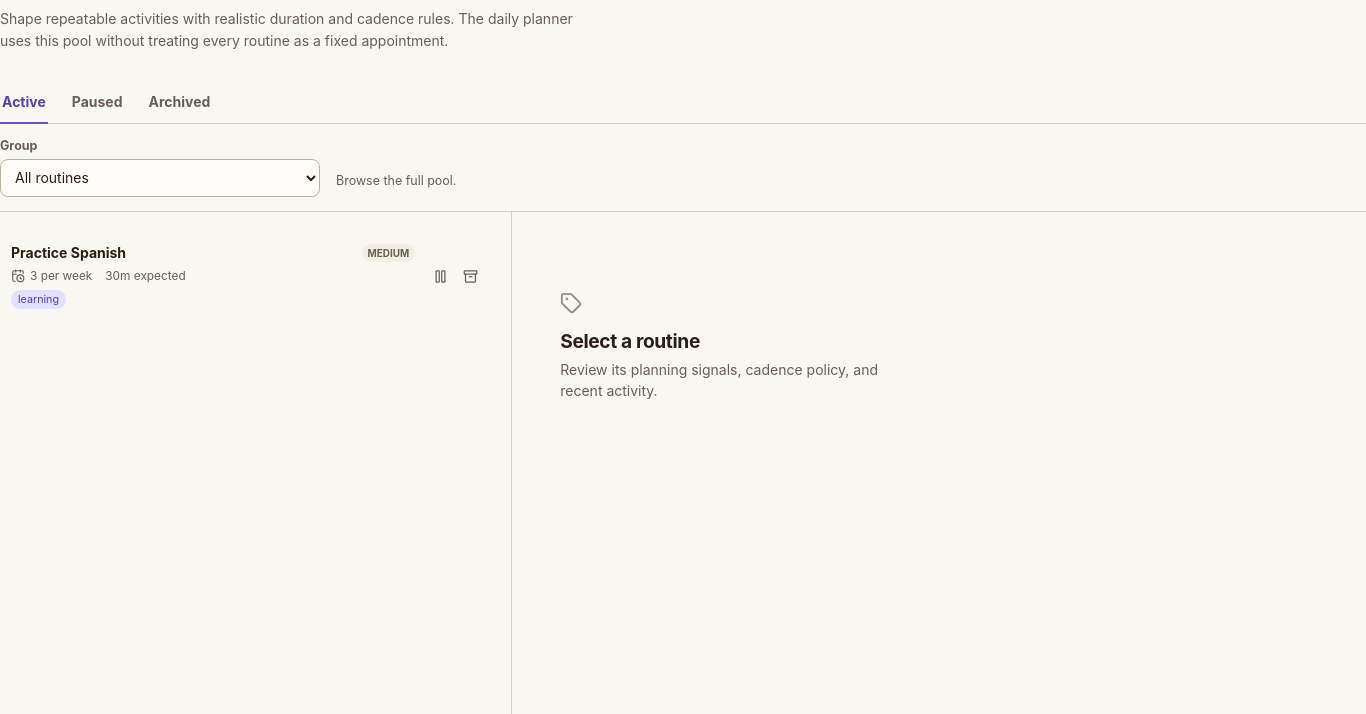
Test: routine pool › reloads authoritative values instead of advancing a stale full draft
Click the button "Practice Spanish": (69, 253) top-left (1, 231), bottom-right (425, 322)
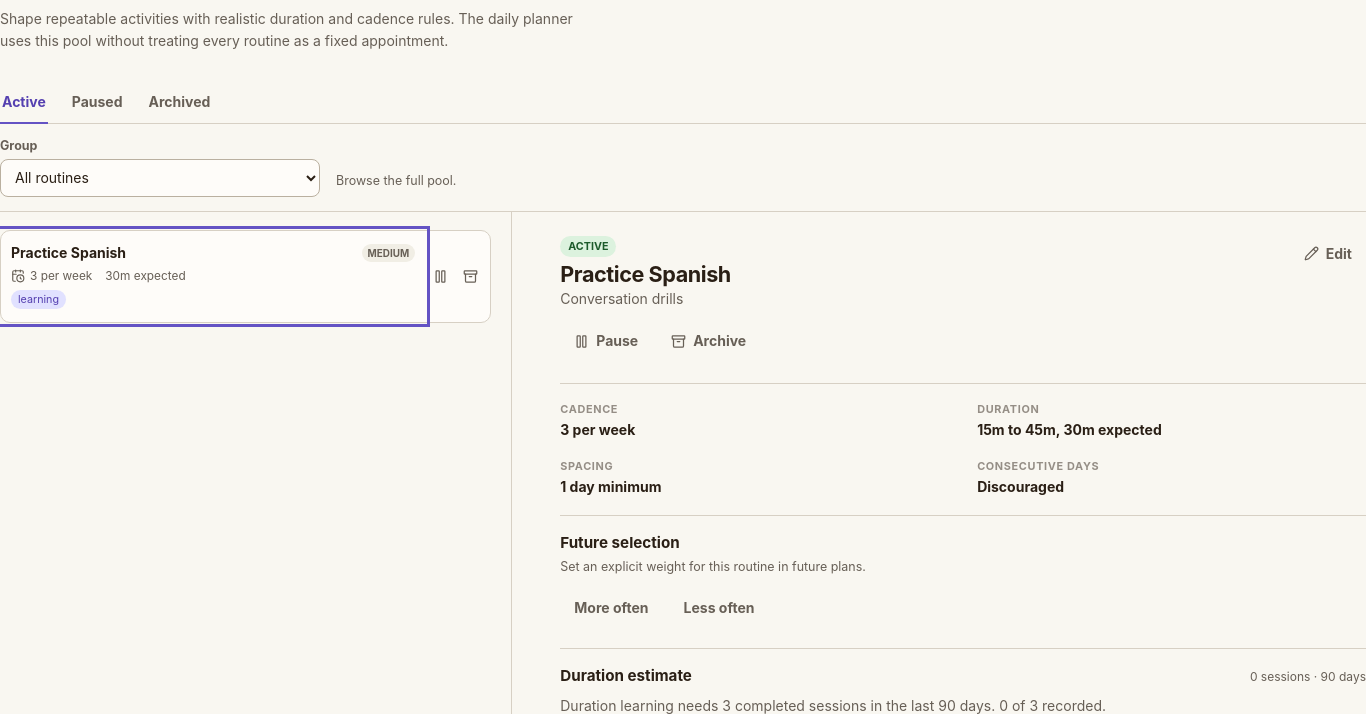
Click the button "Edit": (1328, 254) top-left (1290, 236), bottom-right (1365, 272)
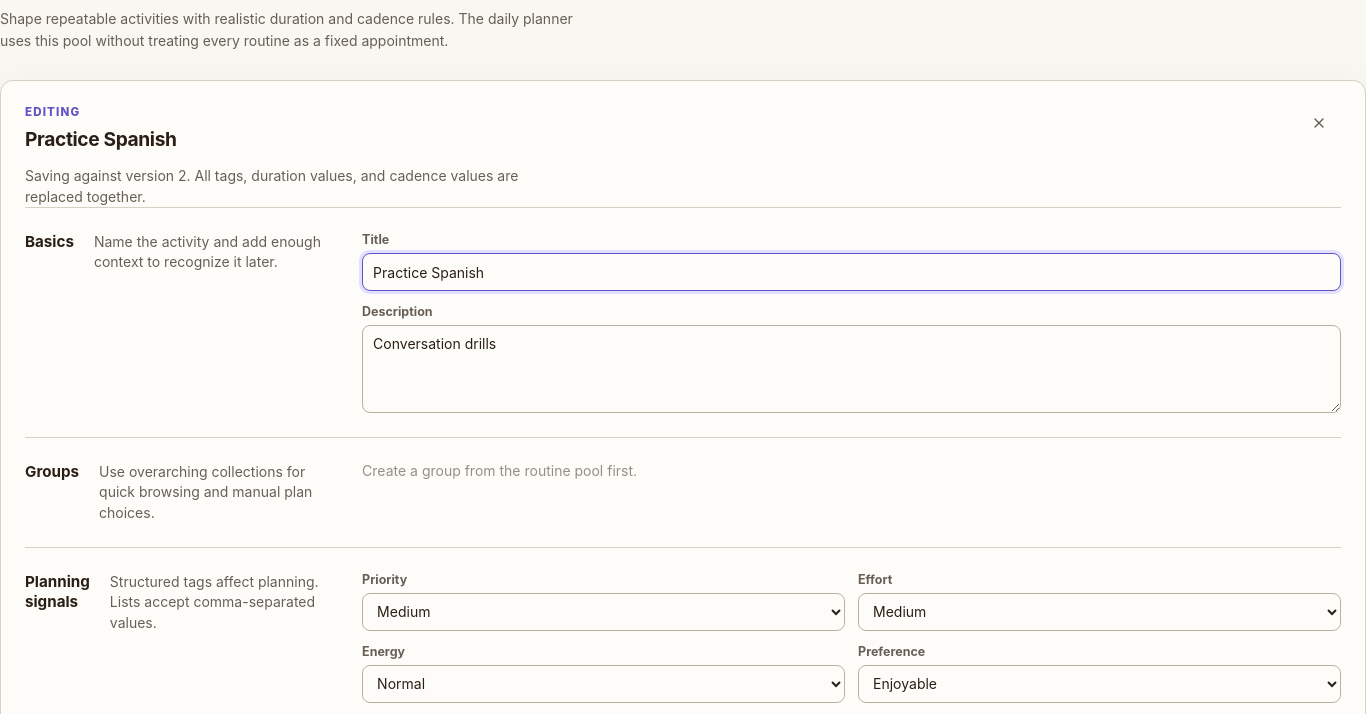
Replace the text in the field labelled "Title" with "Unsaved local title": (852, 272) top-left (362, 253), bottom-right (1341, 291)
(page scrolled)
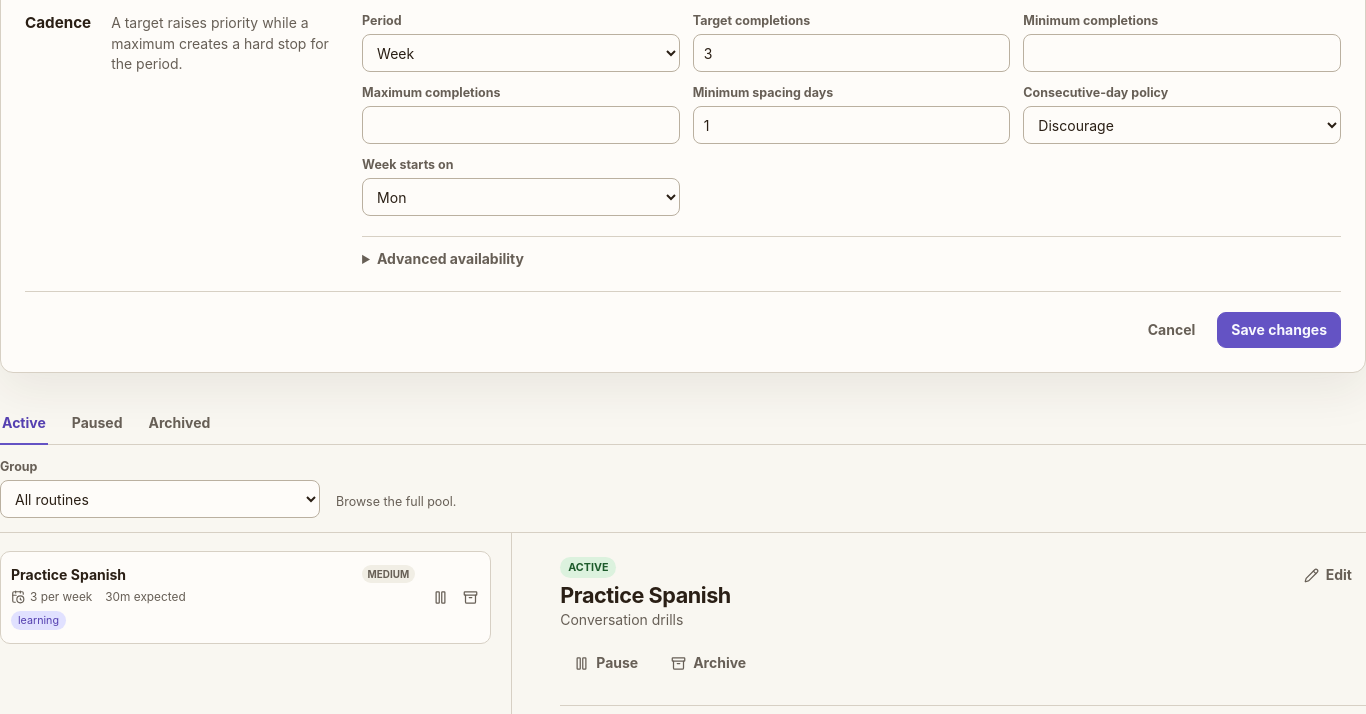
Click the button "Save changes": (1279, 330) top-left (1217, 312), bottom-right (1341, 348)
(page scrolled)
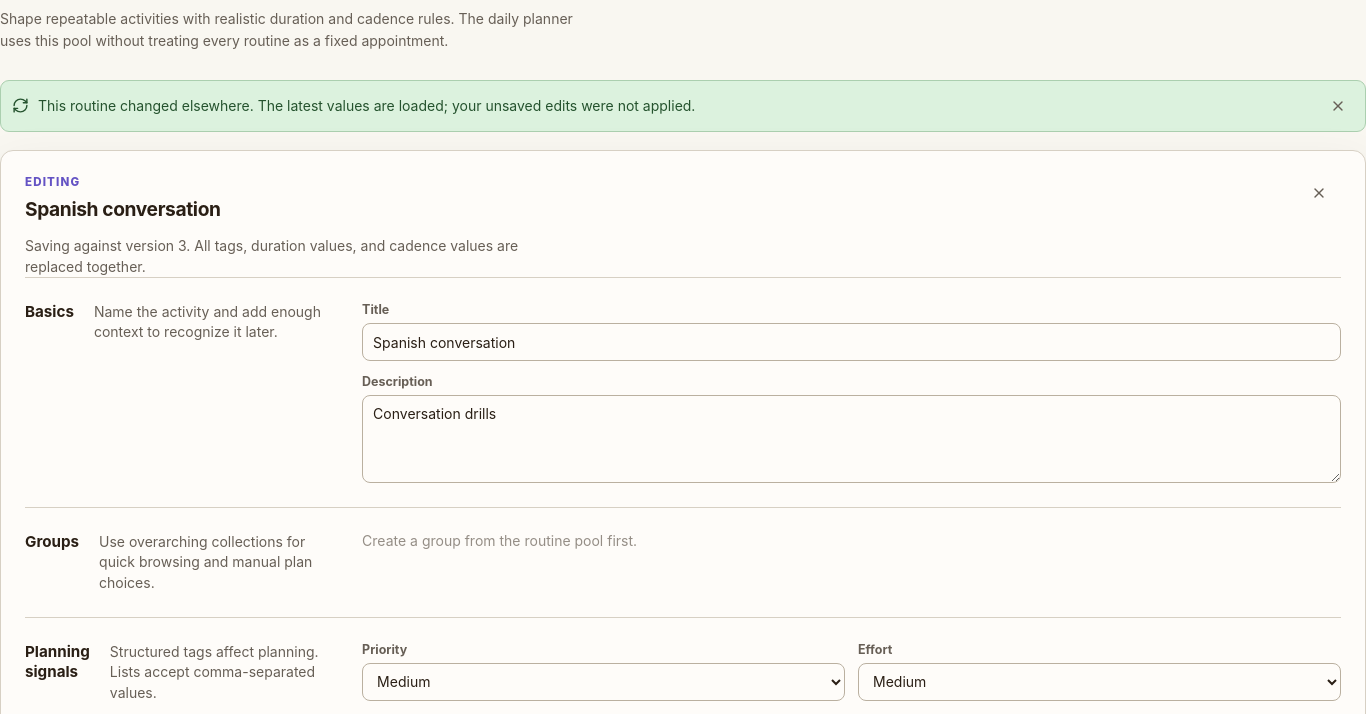
Check: the field labelled "Title" holds "Spanish conversation", box top-left (362, 323), bottom-right (1341, 361)
Check: the message shows "The latest values are loaded; your unsaved edits were not applied.", box top-left (38, 97), bottom-right (695, 114)
